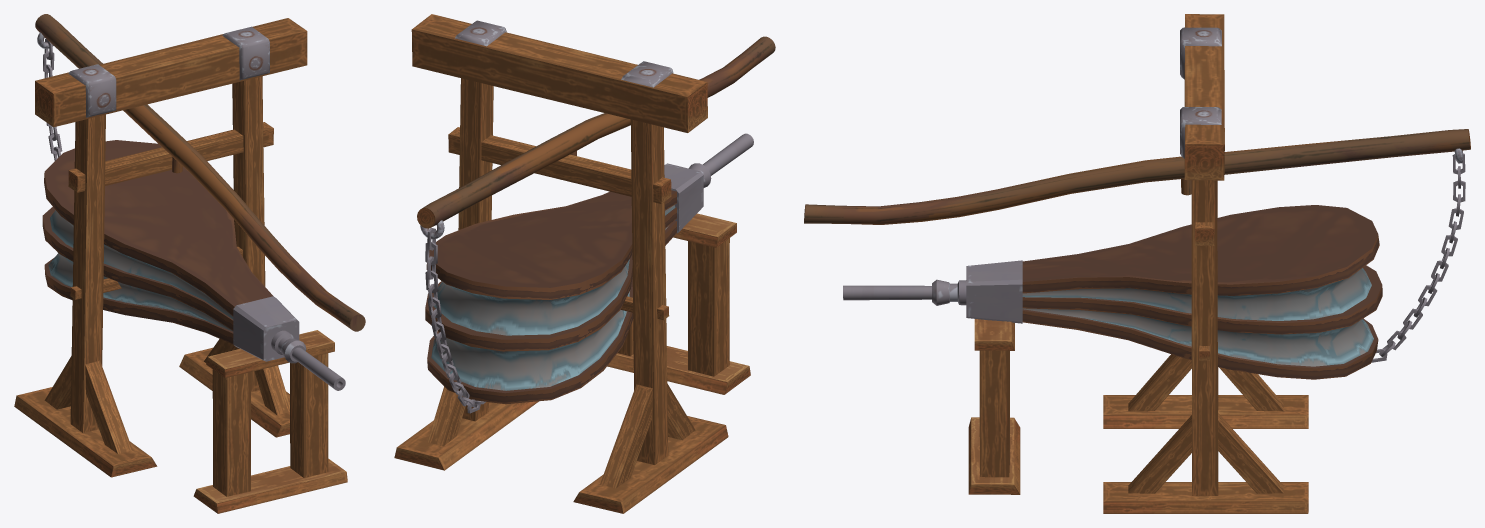
The model's file is Bellows.fbx.
The picture shows the model from 3 angles, left to right: view 1: azimuth 30°, elevation 25°; view 2: azimuth 150°, elevation 25°; view 3: azimuth 270°, elevation 25°; orthographic projection. The views are drawn at different scales.
Parts seen in each view (by area): view 1: Bellows; view 2: Bellows; view 3: Bellows.
Part boxes in pixels (x1,y1,x2,y2): Bellows: (14, 14, 365, 513); Bellows: (394, 14, 775, 513); Bellows: (804, 14, 1470, 513).
Bounding box in the file's own units: 87.65 × 120 × 188.
